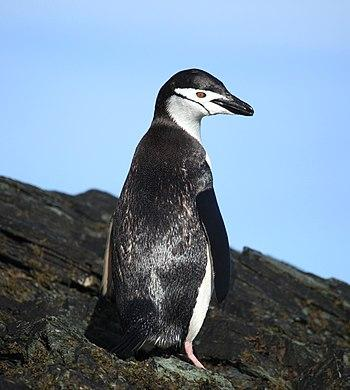chinstrap: (80, 45, 271, 379)
